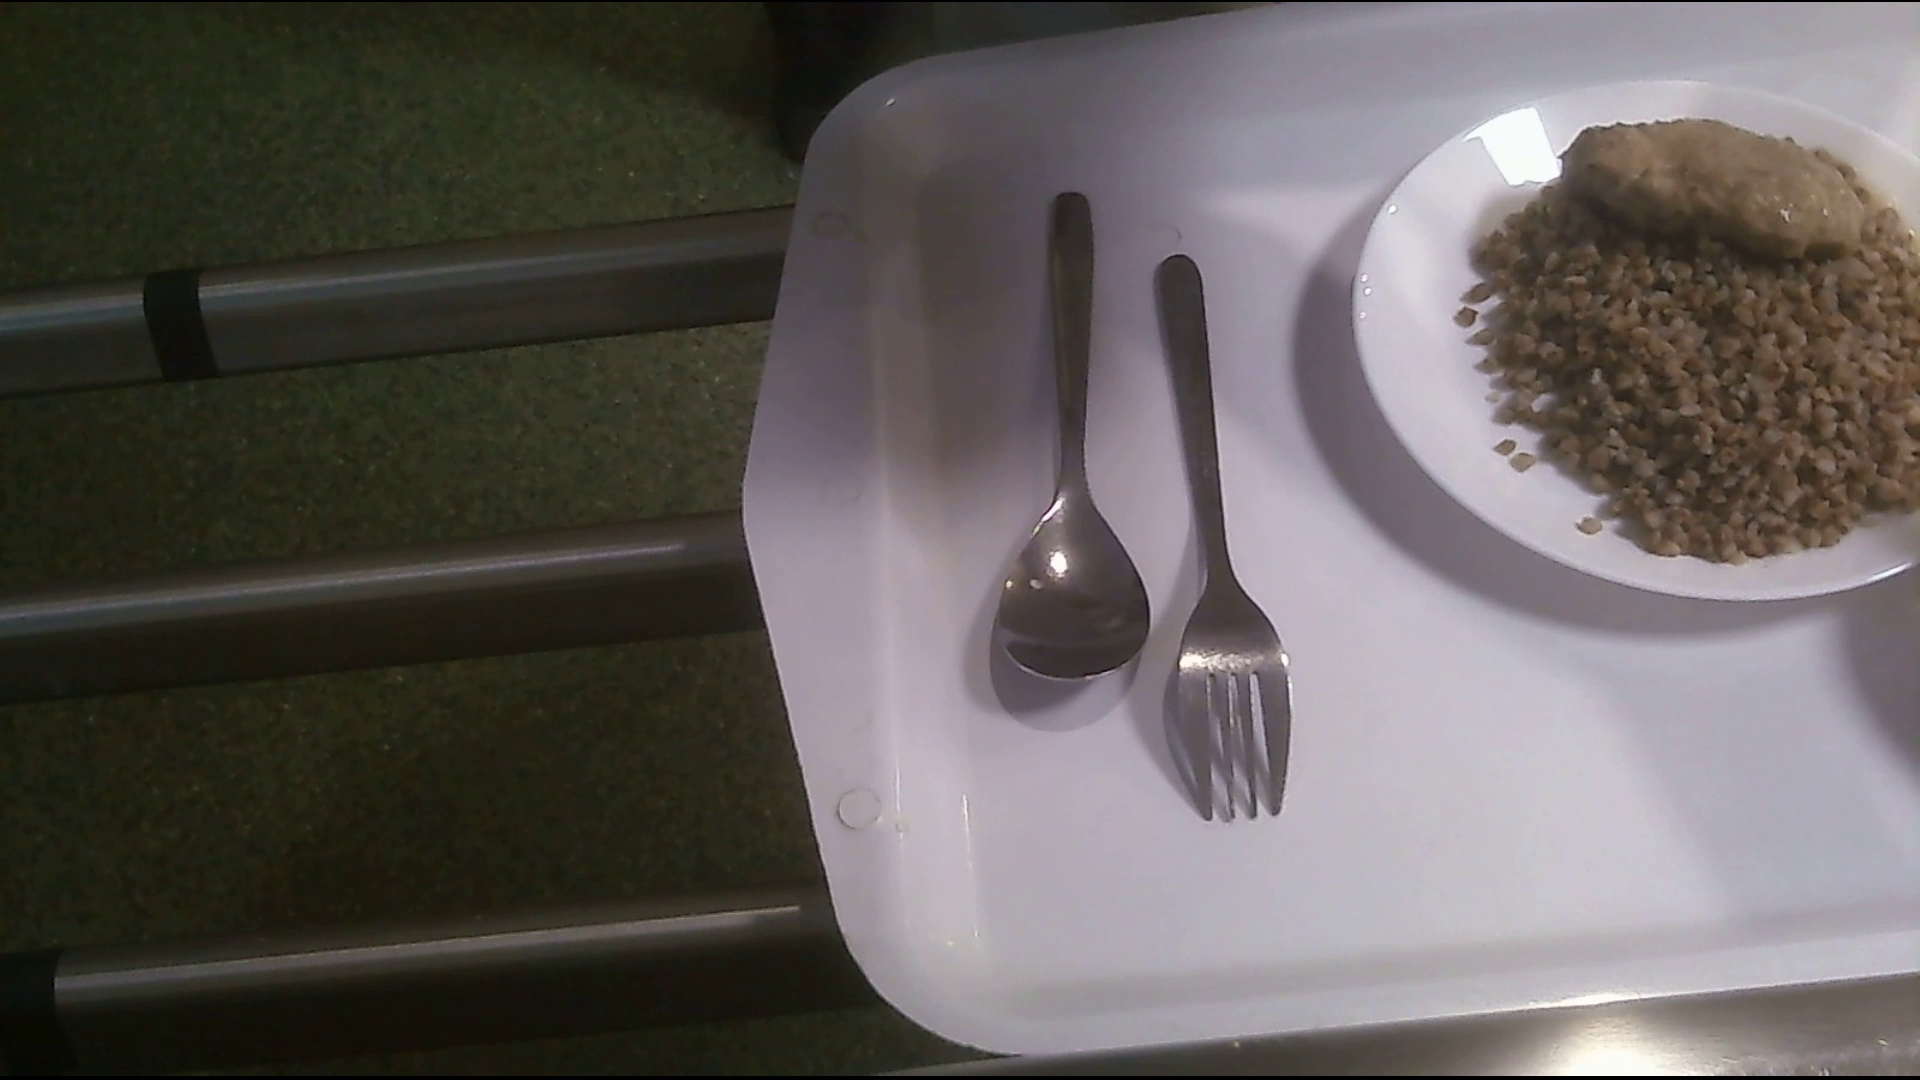cutlery: (1149, 260, 1292, 831), (1005, 187, 1153, 688)
plate: (1364, 88, 1920, 607)
